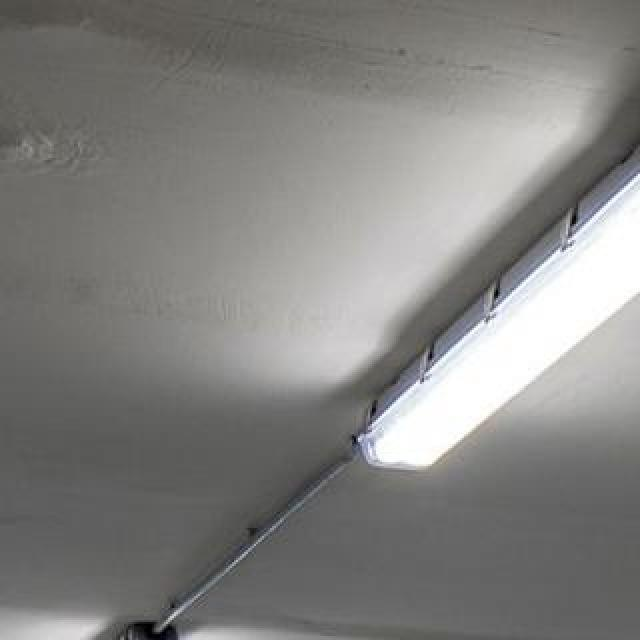fluorescent tube: (342, 84, 640, 522), (22, 606, 194, 640)
